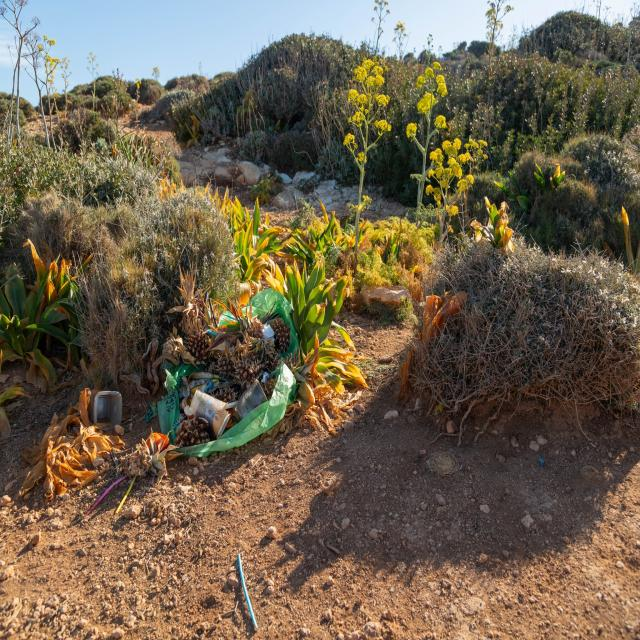Cup: (189, 388, 231, 439), (233, 378, 268, 423)
Other plastic: (90, 389, 122, 432)
Plastic bag - wrapper: (146, 286, 301, 458)
Straw: (85, 474, 127, 517), (237, 555, 259, 633), (113, 473, 138, 515), (209, 298, 218, 328), (201, 291, 209, 323), (207, 330, 218, 336)
